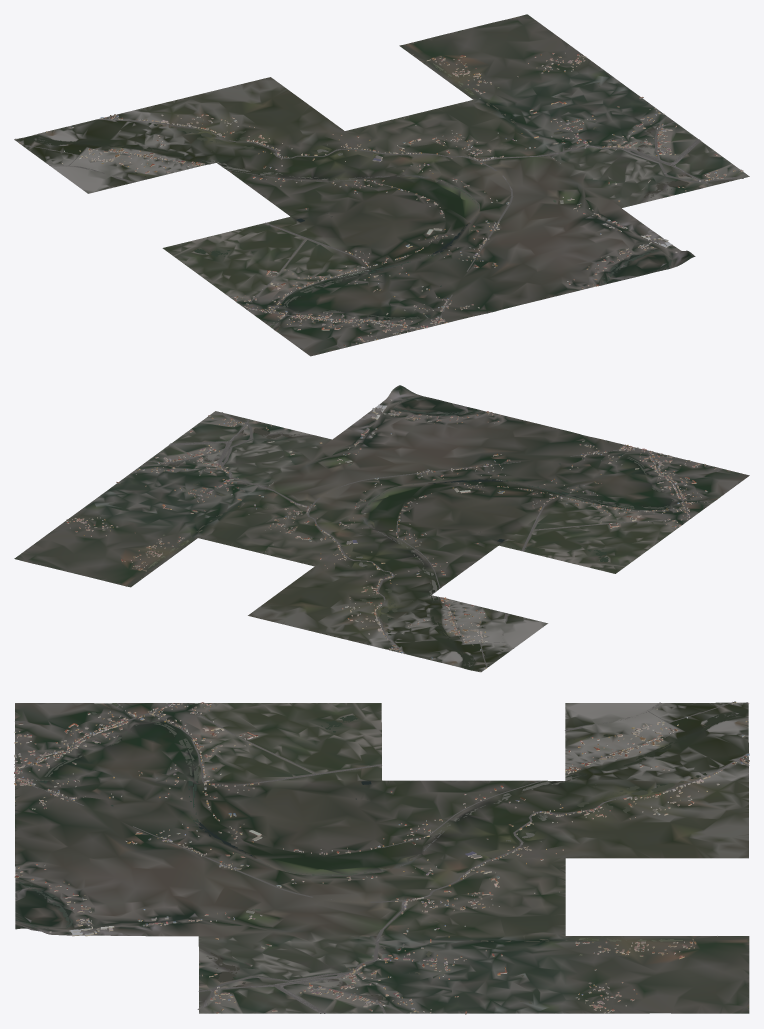
3 views of the same model, one above another, from view 1: azimuth 30°, elevation 25°; view 2: azimuth 150°, elevation 25°; view 3: azimuth 270°, elevation 25° (orthographic). The views are drawn at different scales.
Parts seen in each view (by area): view 1: ground, buildings, roads, water; view 2: ground, buildings, water, roads; view 3: ground, buildings, water, roads.
Part boxes in pixels (bbox=[...]): ground: bbox=[15, 14, 749, 356]; buildings: bbox=[14, 52, 743, 346]; roads: bbox=[21, 114, 743, 348]; water: bbox=[26, 63, 691, 329]; ground: bbox=[14, 385, 749, 671]; buildings: bbox=[66, 399, 716, 672]; water: bbox=[109, 396, 708, 669]; roads: bbox=[149, 412, 722, 667]; ground: bbox=[15, 702, 749, 1013]; buildings: bbox=[14, 701, 749, 1014]; water: bbox=[15, 707, 748, 1003]; roads: bbox=[14, 702, 749, 1013].
Bounding box in the file's own units: 5641 × 70.58 × 5623.
